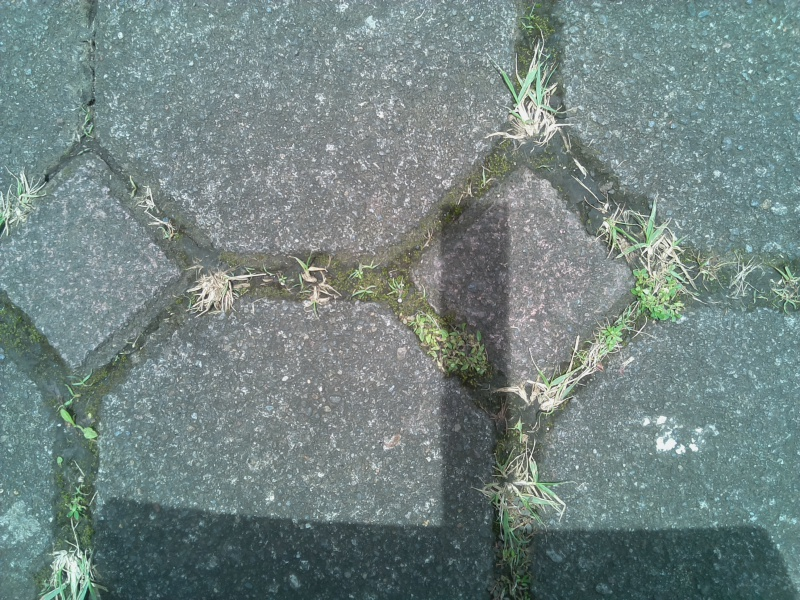Weed: (488, 447, 553, 563), (605, 209, 689, 296), (493, 65, 569, 146), (409, 311, 491, 384), (621, 268, 691, 331), (522, 362, 581, 423), (127, 176, 178, 243), (190, 258, 248, 316), (38, 547, 101, 600), (288, 254, 336, 313), (57, 396, 106, 449), (1, 177, 38, 239), (767, 264, 800, 317)
